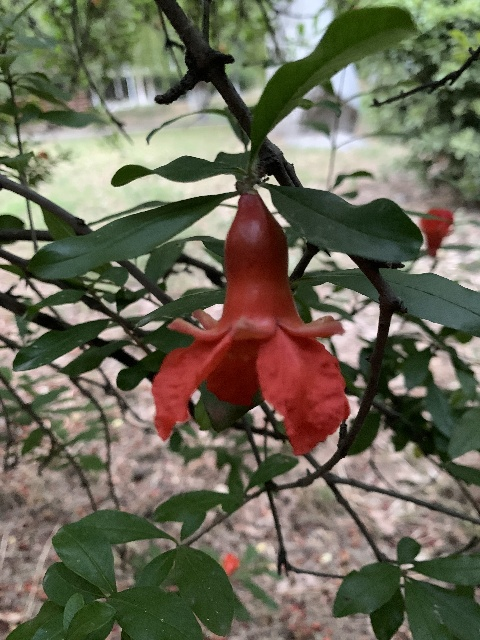flower: (151, 192, 350, 455), (417, 208, 454, 257), (220, 553, 239, 576)
